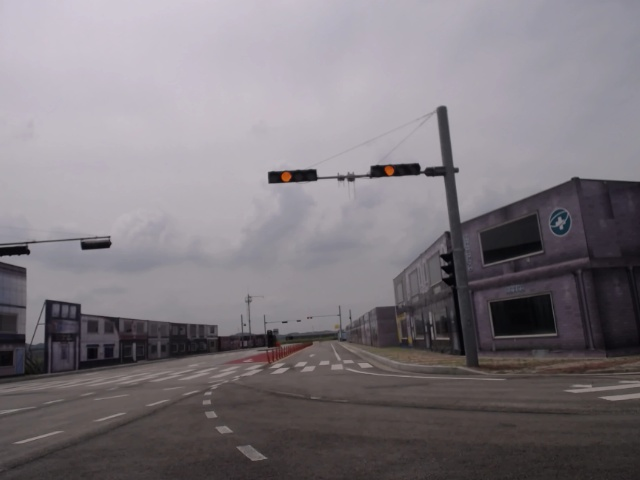orange_4: (368, 162, 422, 181), (266, 168, 320, 184)
